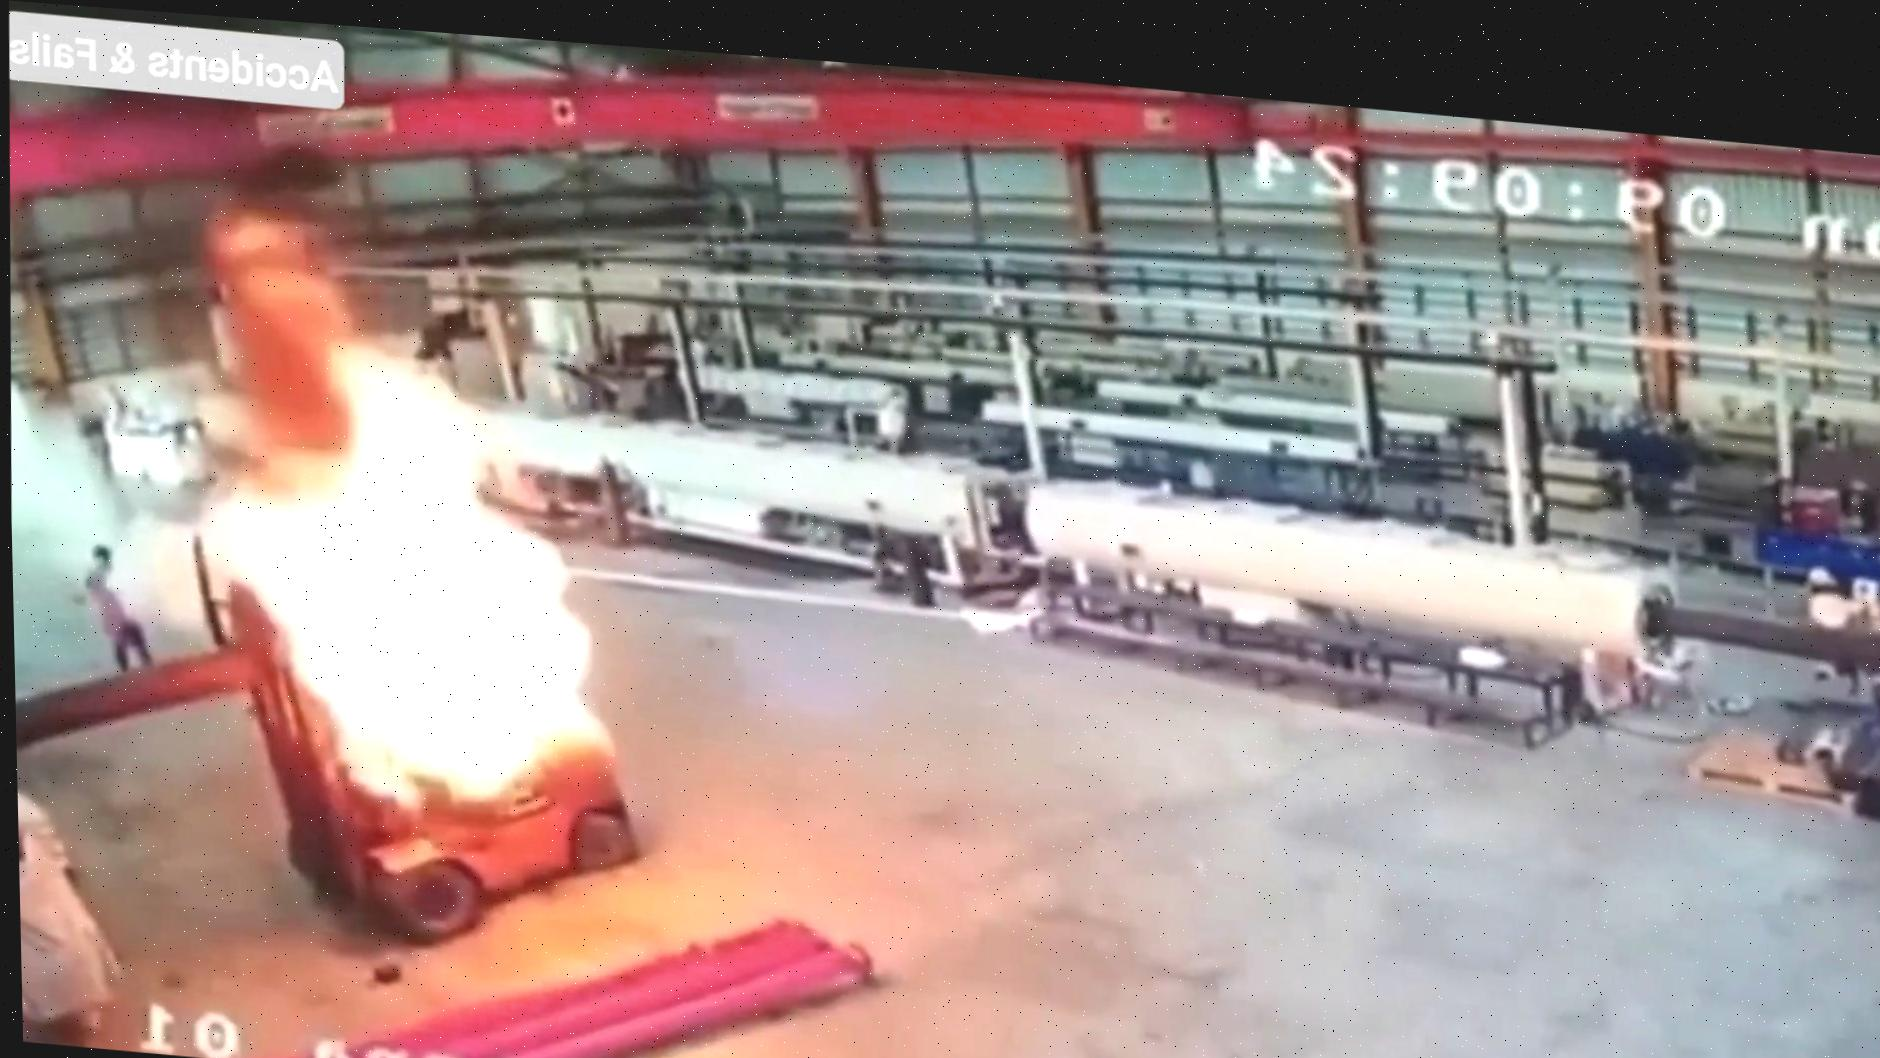fire: (59, 182, 710, 925)
